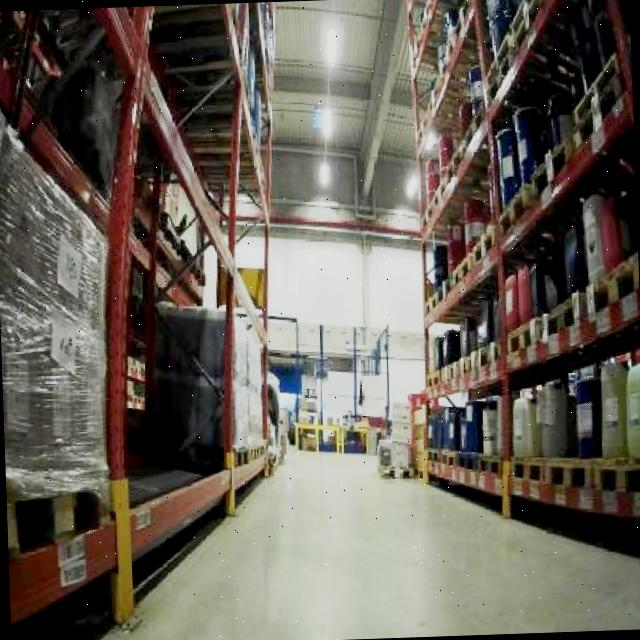ground: (6, 426, 640, 640)
pallet: (0, 2, 293, 640), (398, 0, 640, 571)
